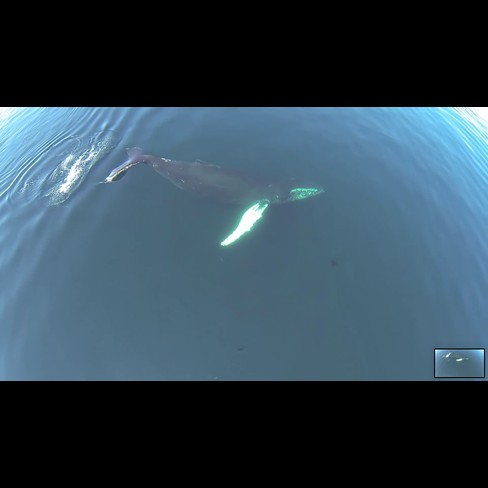hump: (103, 136, 329, 259)
